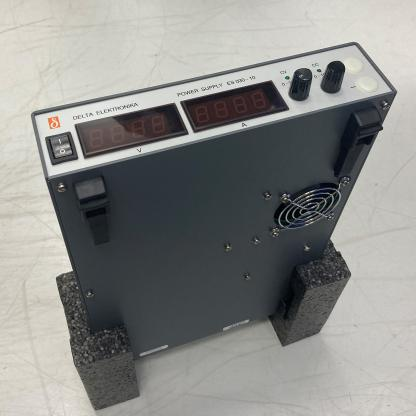SP0000005: (0, 0, 415, 405)
